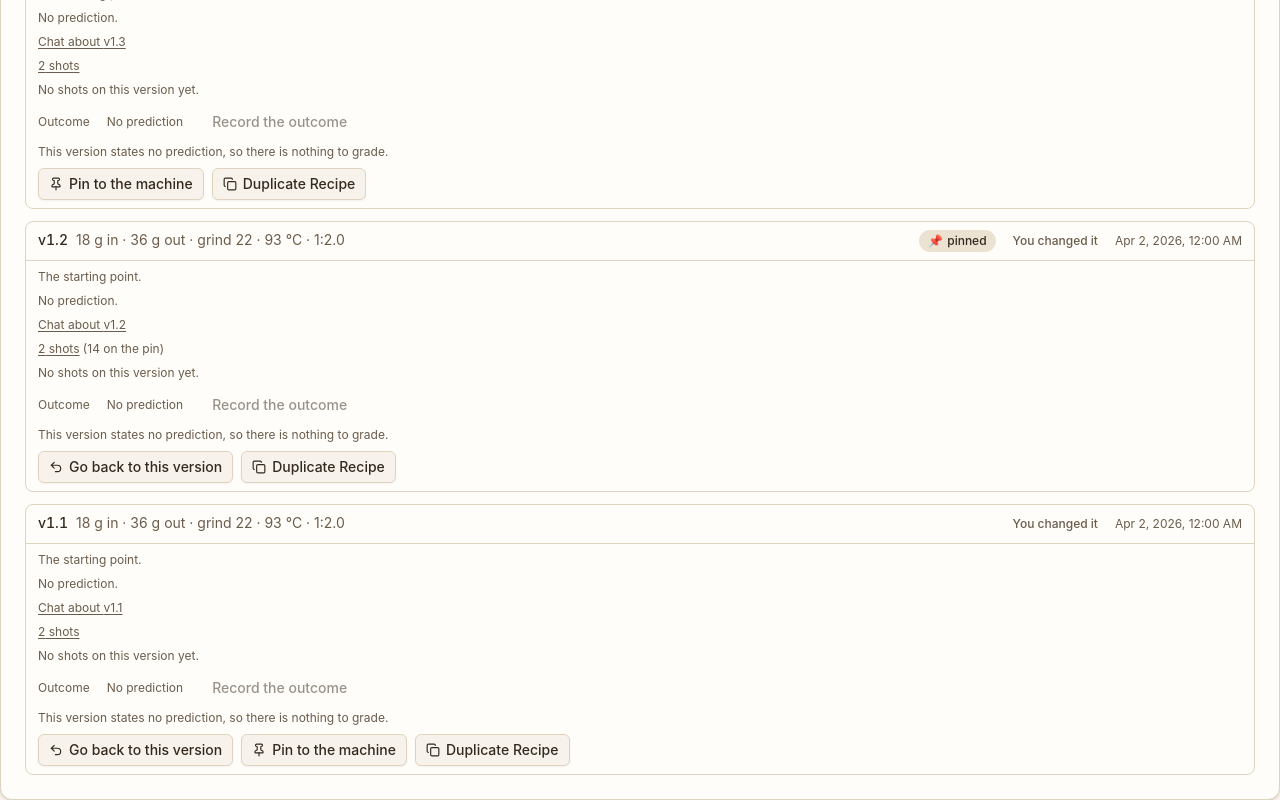
Test case: the buttons › opens the dialog for the version whose button was pressed
(page scrolled)
Click the button with aria-label "Duplicate Recipe: v": (492, 750) [415,734,570,766]
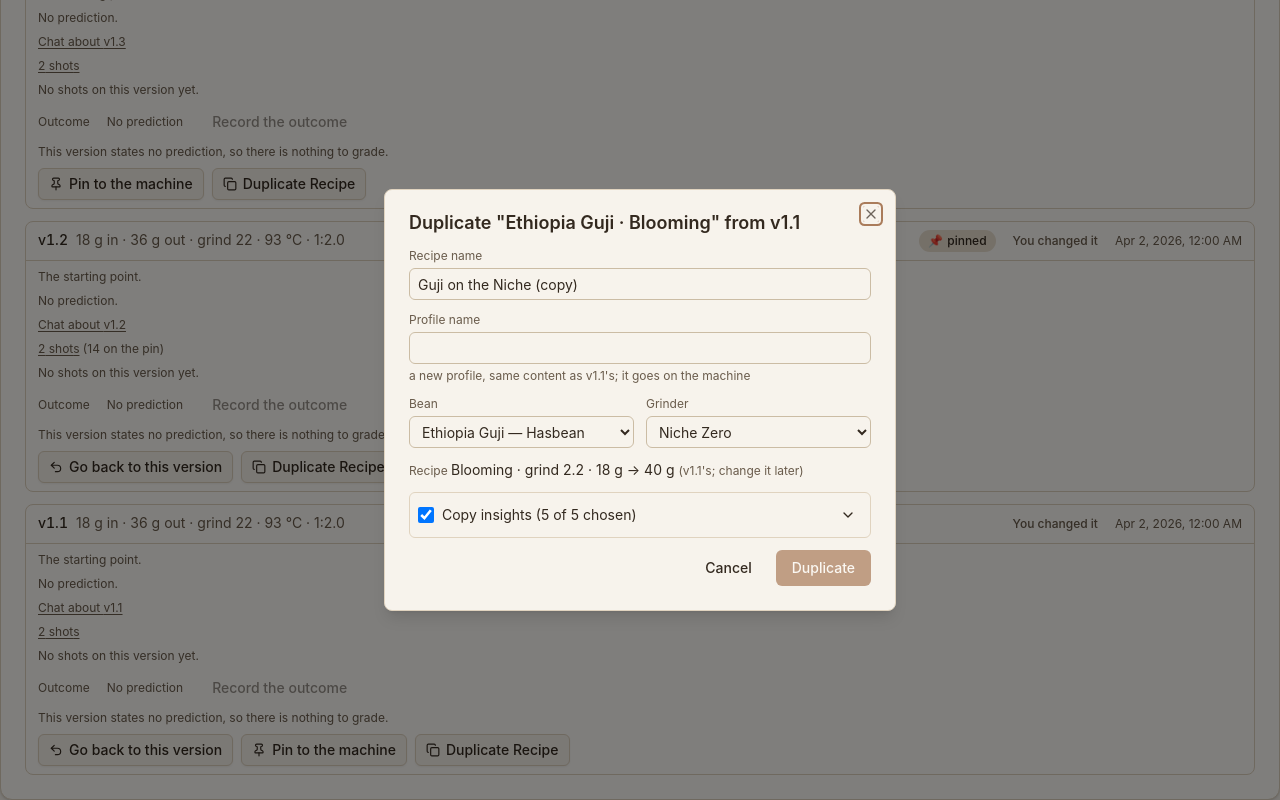
Check: the dialog with test id "duplicate-dialog" shows "Duplicate \"Ethiopia Guji · Blooming\" from v1.1", box [384,189,896,611]
